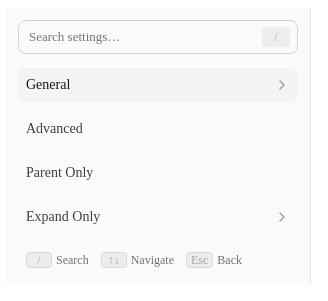
it: SetteraSidebar › auto-expands parents with matching children during search
Search for something in the Privacy child page
Type "Tracking" into the search field at (158, 37), box [18,20,298,54]
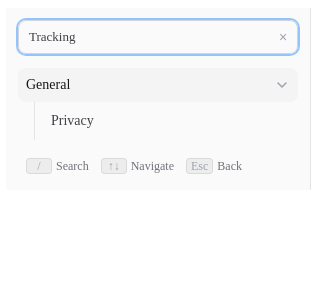
expect the button "General" is shown: met, box [18,68,298,102]
expect the button "Privacy" is shown: met, box [43,104,298,138]
